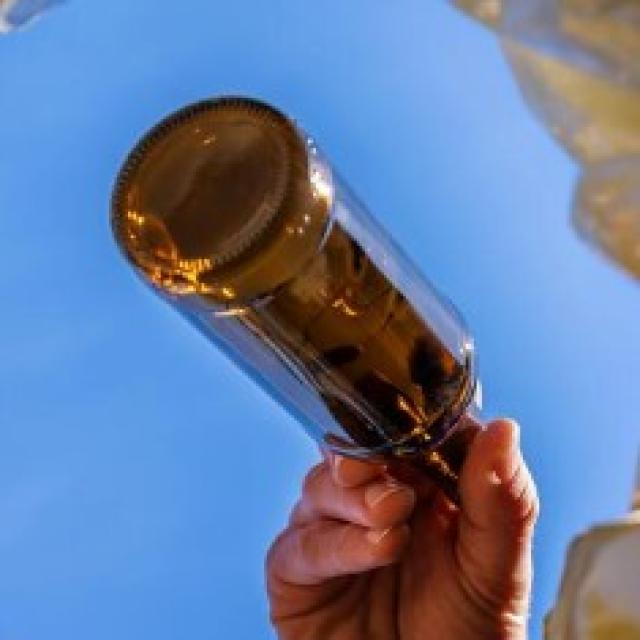electronic: (100, 88, 518, 519)
